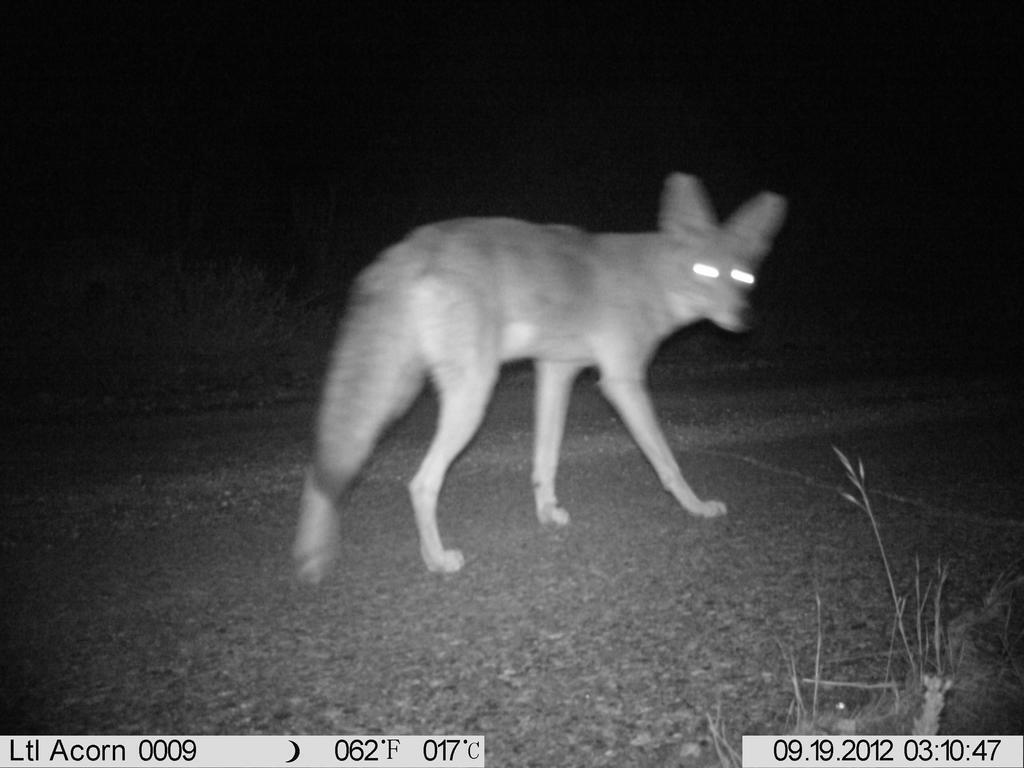coyote: (271, 162, 803, 592)
